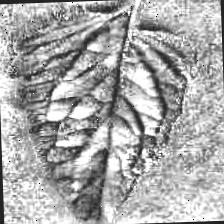leaf mold: (5, 7, 201, 224)
